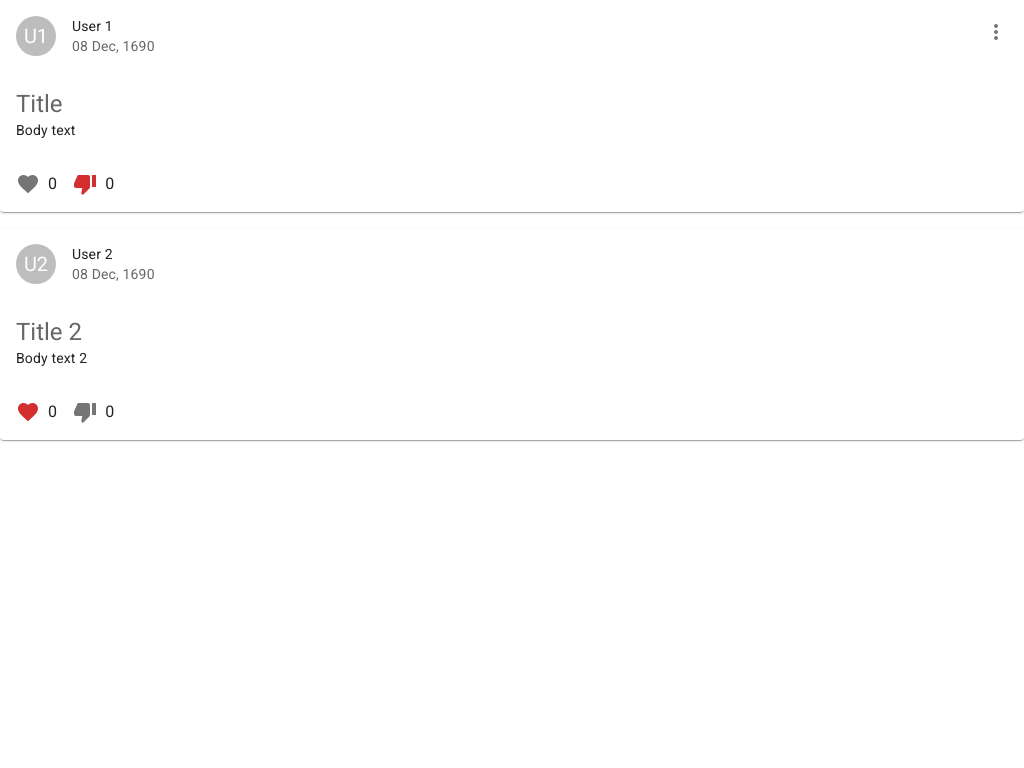
Scenario: PostList component tests › Check delete post
What coordinates should you click on to do the following:
click the button with test id "menu-button"
I would click on:
 (996, 32)
Its box is [976,12,1016,52].
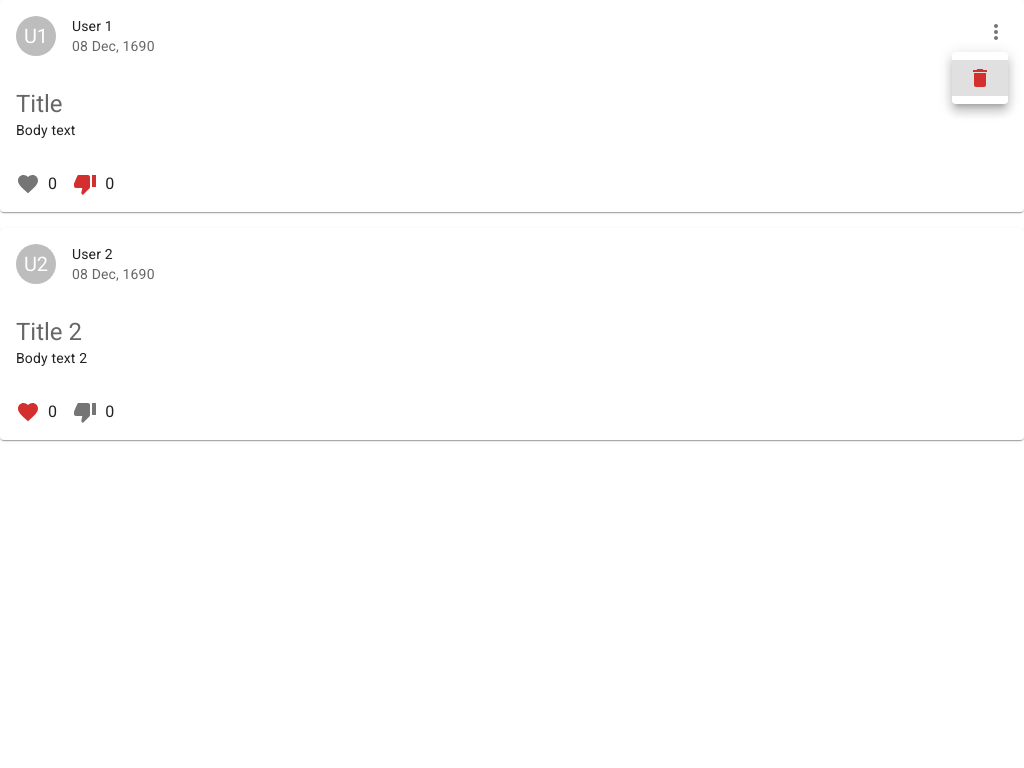
Now the menu item with test id "delete-button" is shown
What coordinates should you click on to do the following:
click the menu item with test id "delete-button"
I would click on:
 (980, 78)
Its box is [952,60,1008,96].
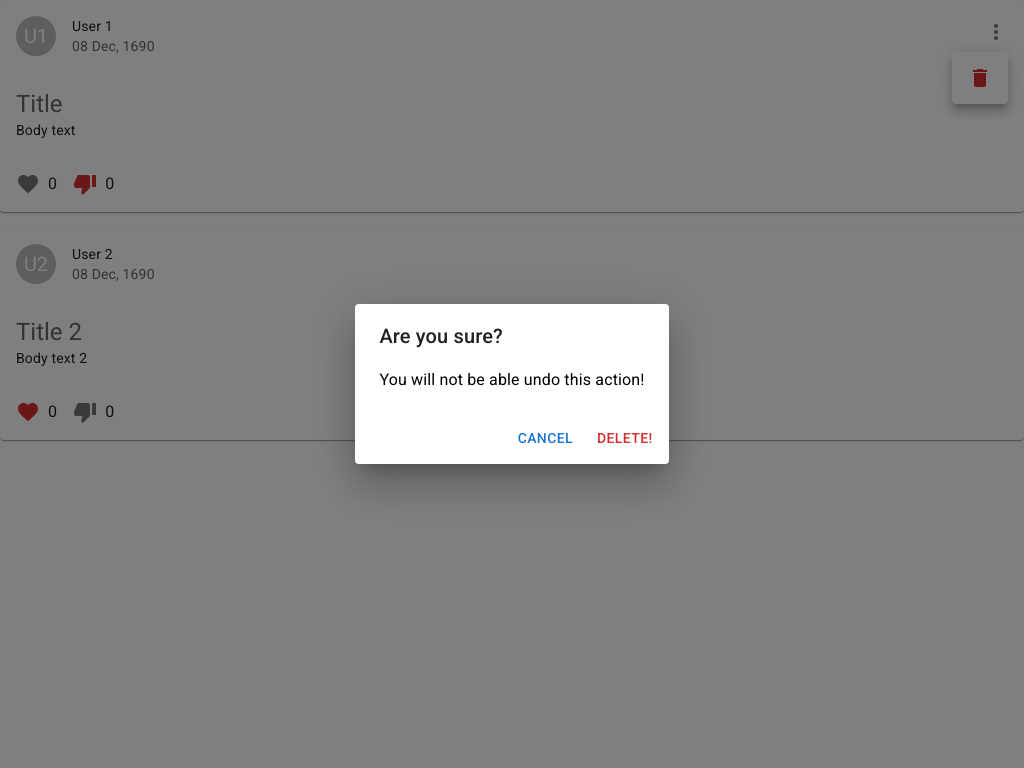
Now the button with test id "confirm-delete-button" is shown, box [589,420,661,456]
